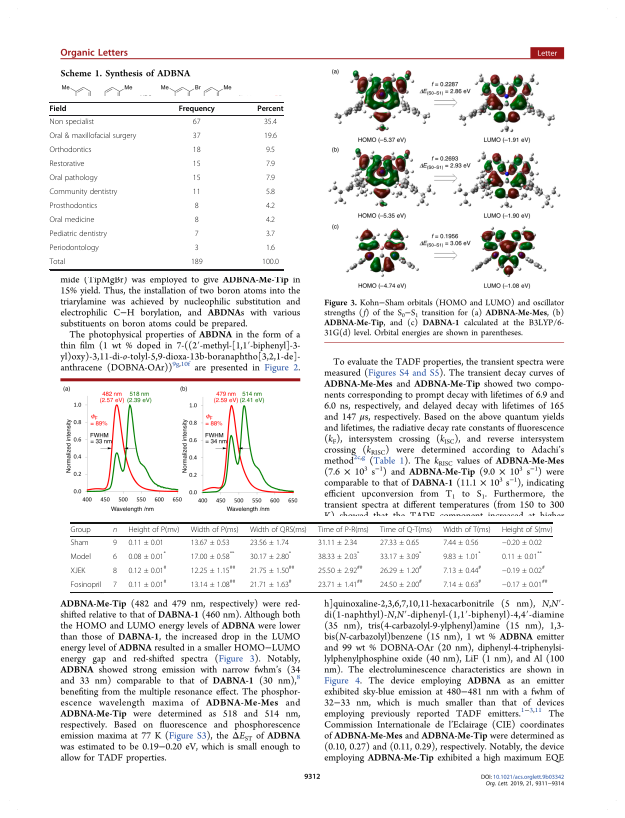borderless: (48, 101, 283, 269), (70, 521, 553, 592)
cell: (49, 132, 137, 142), (49, 188, 118, 198), (49, 230, 108, 240), (249, 525, 308, 534), (501, 578, 548, 589), (49, 244, 100, 254), (190, 564, 236, 575), (249, 564, 295, 575), (317, 564, 363, 575), (190, 578, 236, 589), (317, 578, 363, 589), (190, 550, 235, 561), (501, 564, 546, 575), (49, 174, 98, 184), (49, 202, 98, 212), (379, 525, 433, 534), (379, 564, 423, 575), (249, 578, 293, 589), (379, 578, 423, 589), (127, 525, 180, 534), (317, 525, 370, 534), (249, 550, 292, 561), (317, 550, 360, 561), (379, 550, 422, 561), (501, 525, 553, 534), (501, 550, 543, 561), (49, 118, 95, 128), (49, 216, 95, 226), (442, 525, 492, 534), (190, 525, 239, 534), (127, 550, 167, 561), (442, 550, 482, 561), (127, 564, 167, 575), (442, 564, 482, 575), (127, 578, 167, 589), (442, 578, 482, 589), (49, 146, 92, 156), (501, 538, 543, 547), (190, 538, 231, 547), (249, 538, 290, 547), (317, 538, 358, 547), (379, 538, 420, 547), (49, 160, 85, 170), (127, 538, 165, 547), (178, 105, 216, 114), (442, 538, 479, 547), (70, 580, 102, 589), (256, 105, 284, 114), (70, 552, 92, 561), (261, 258, 280, 268), (70, 525, 91, 534), (70, 538, 89, 547), (49, 258, 66, 268), (49, 105, 67, 114), (263, 118, 278, 128), (263, 132, 278, 142), (70, 566, 86, 575), (190, 258, 203, 268), (265, 146, 276, 156), (265, 160, 276, 170), (265, 174, 276, 184), (265, 188, 276, 198), (265, 202, 276, 212), (265, 216, 276, 226), (265, 230, 276, 240), (265, 244, 276, 254), (192, 118, 201, 128), (192, 132, 201, 142), (192, 146, 201, 156), (192, 160, 201, 170), (192, 174, 201, 184), (192, 188, 201, 198), (194, 202, 200, 212), (194, 216, 200, 226), (194, 230, 200, 240), (194, 244, 200, 254), (112, 538, 118, 547), (112, 552, 118, 561), (112, 566, 118, 575), (112, 580, 118, 589), (112, 527, 118, 533)
